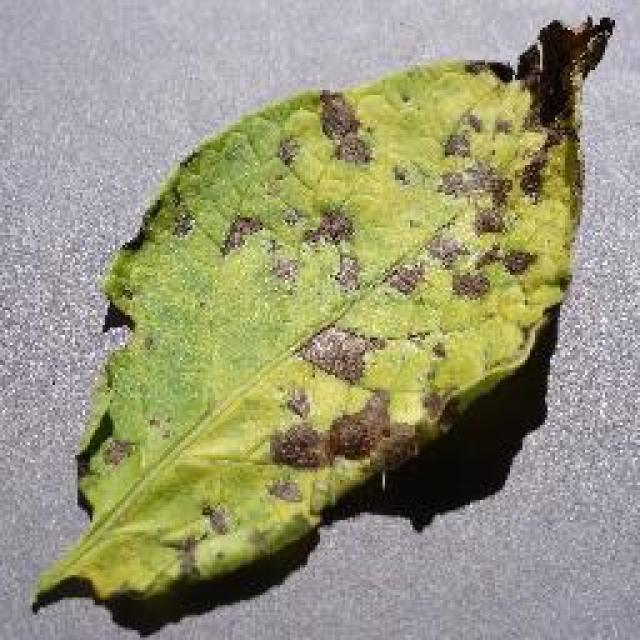early_blight: (25, 10, 620, 620)
